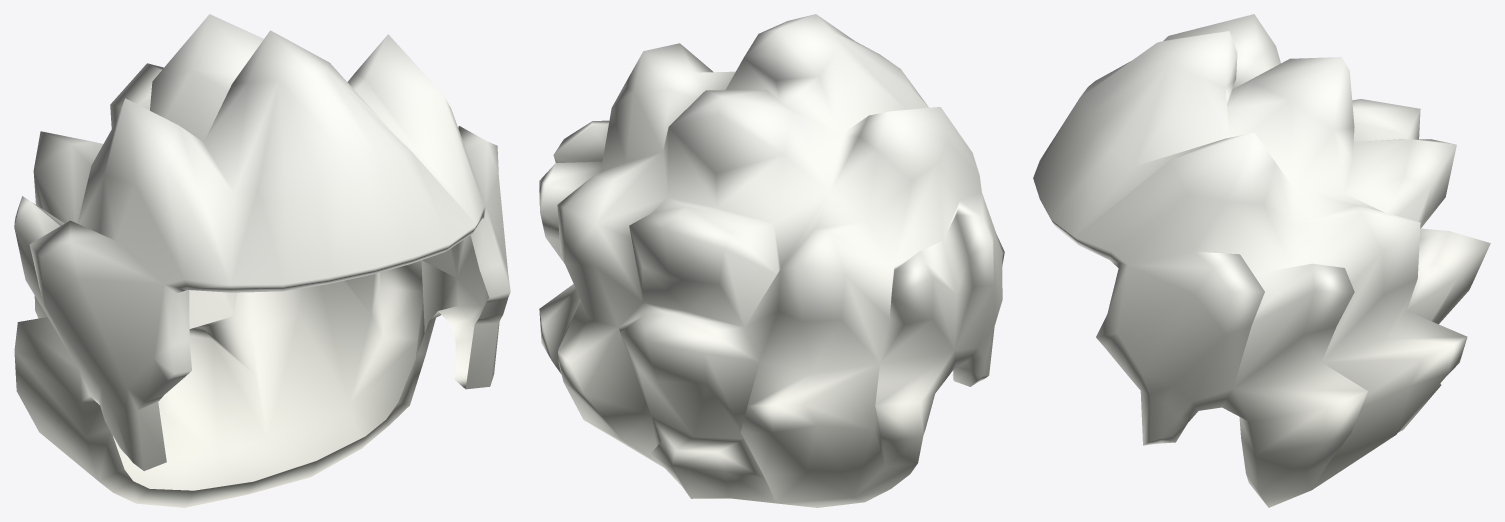
The model's file is Hair_White_16.fbx.
3 renders of one model, left to right at view 1: azimuth 30°, elevation 25°; view 2: azimuth 150°, elevation 25°; view 3: azimuth 270°, elevation 25°, orthographic. The views are drawn at different scales.
Visible parts, largest first — view 1: Hair_White_16; view 2: Hair_White_16; view 3: Hair_White_16.
Part boxes in pixels (left/top/right/bottom): Hair_White_16: left=14, top=14, right=510, bottom=507; Hair_White_16: left=539, top=14, right=1004, bottom=507; Hair_White_16: left=1033, top=14, right=1490, bottom=507.
Size of the model in its own units: 62.42 by 62.7 by 58.65.
